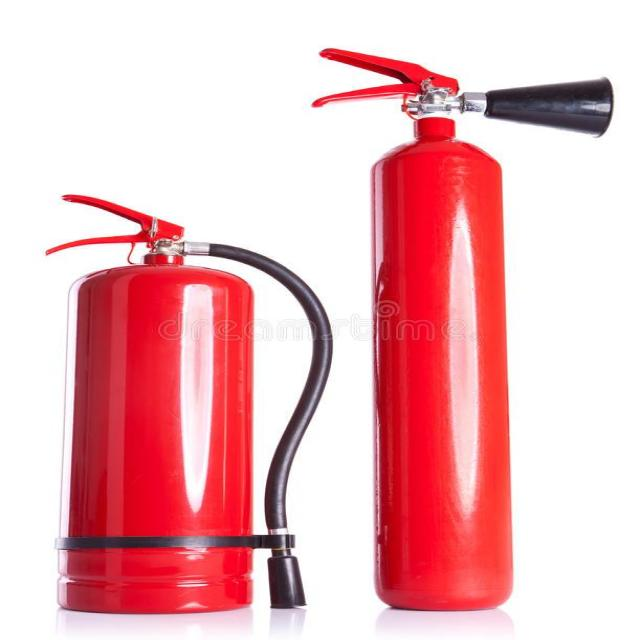fire_extinguisher: (303, 43, 622, 613), (35, 190, 342, 620)
